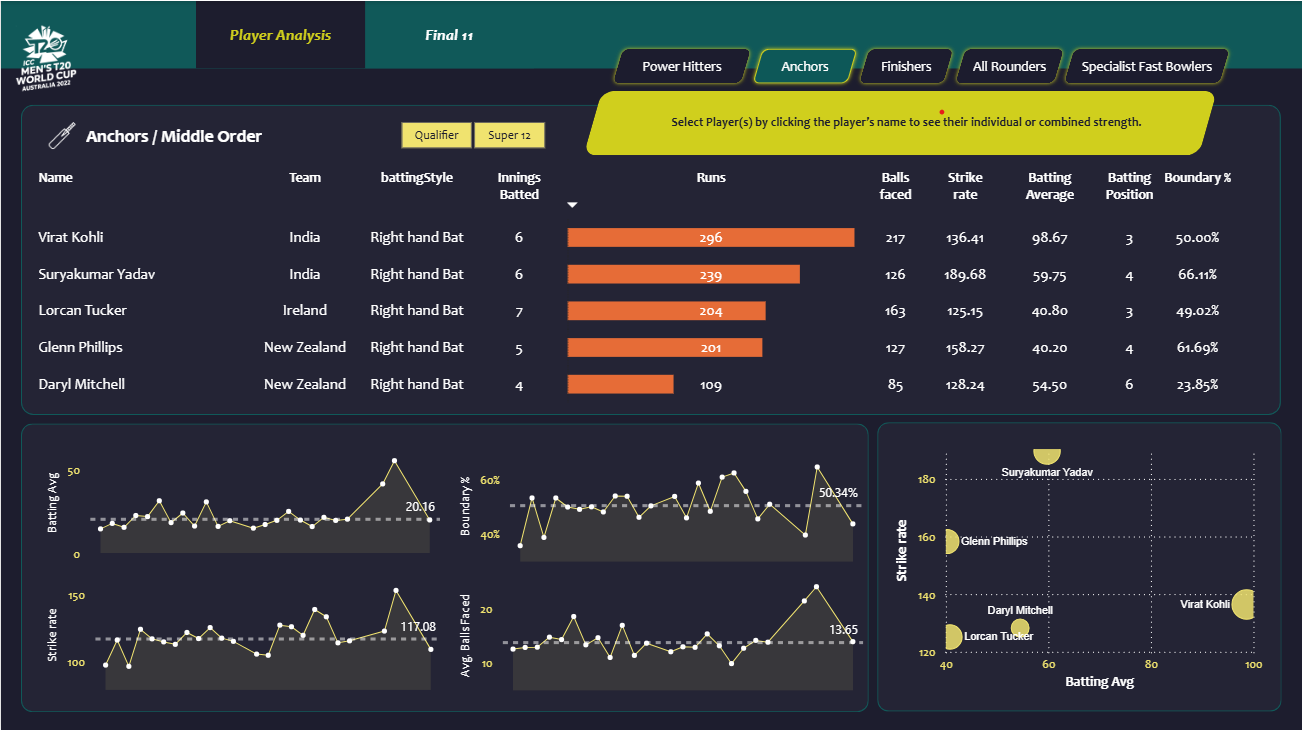

What the dashboard file says about the page in this screenshot:
{"tool":"powerbi","page":{"name":"New Anchors / Middle Order","canvas":[1280,720],"ordinal":1},"visuals":[{"type":"shape","box":[0,66,1280,654],"z":0},{"type":"card","fields":{"Values":["Key_Measures.Strike rate"]},"box":[866.4,88.6,93,60],"z":0,"group":"g2"},{"type":"group","id":"g1","title":"Group 2","box":[83.8,116.2,260,31.2],"z":0,"group":"g3"},{"type":"shape","box":[83.8,116.2,260,31.2],"z":0,"group":"g1"},{"type":"card","fields":{"Values":["Key_Measures.Bat Avg"]},"box":[767.4,88.6,92,60],"z":1000,"group":"g2"},{"type":"image","box":[38,114,44,36],"z":1000,"group":"g3"},{"type":"shape","box":[20,414.4,832.2,283.3],"z":1000},{"type":"actionButton","box":[734,42.6,111,42],"z":2000},{"type":"card","fields":{"Values":["Key_Measures.Avergate Balls Faced"]},"box":[1063,90.3,110,56.7],"z":2000,"group":"g2"},{"type":"actionButton","box":[596,42.6,144,42],"z":3000},{"type":"card","fields":{"Values":["Key_Measures.Boundary %"]},"box":[965.4,88.6,101,60],"z":3000,"group":"g2"},{"type":"actionButton","box":[838,42.6,101,42],"z":4000},{"type":"actionButton","box":[932,42.6,115,42],"z":5000},{"type":"actionButton","box":[1039,42.6,171,42],"z":6000},{"type":"image","box":[9.7,6.9,69.4,98.5],"z":7000},{"type":"areaChart","fields":{"Category":["dim_match_summary.Match_Date.Variation.Date Hierarchy.Day"],"Y":["Key_Measures.Boundary %"]},"box":[446,430,406,126],"z":9000},{"type":"shape","box":[860,414,397,284],"z":10000},{"type":"areaChart","fields":{"Category":["dim_match_summary.Match_Date.Variation.Date Hierarchy.Day"],"Y":["Key_Measures.Avergate Balls Faced"]},"box":[446,556,406,126],"z":11000},{"type":"areaChart","fields":{"Category":["dim_match_summary.Match_Date.Variation.Date Hierarchy.Day"],"Y":["Key_Measures.Bat Avg"]},"box":[40,428.9,395.6,126.7],"z":12000},{"type":"areaChart","fields":{"Category":["dim_match_summary.Match_Date.Variation.Date Hierarchy.Day"],"Y":["Key_Measures.Strike rate"]},"box":[40,555.6,396.7,125.6],"z":13000},{"type":"shape","box":[20,102.2,1236.7,304.4],"z":14000},{"type":"slicer","fields":{"Values":["dim_match_summary.stage"]},"box":[366.7,111.1,191.1,38.9],"z":15000},{"type":"shape","box":[572,88,622,63],"z":16000},{"type":"shape","box":[590.4,101.6,173,34],"z":17000},{"type":"group","id":"g2","title":"Combined Perfoamce Metrices","box":[767.4,88.6,405.6,60],"z":18000},{"type":"group","id":"g3","title":"Group 1","box":[38,114,305.8,36],"z":19000},{"type":"tableEx","fields":{"Values":["dim_player.name","dim_player.team","dim_player.Batting Style","Key_Measures.Total Matches","Key_Measures.Total Runs","Key_Measures.total balls faced","Key_Measures.Strike rate","Key_Measures.Bat Avg","Key_Measures.Batting Position","Key_Measures.Boundary %"]},"box":[26,151,1231,255],"z":20000},{"type":"scatterChart","fields":{"Y":["Key_Measures.Strike rate"],"Category":["dim_player.name"],"X":["Key_Measures.Bat Avg"],"Size":["Key_Measures.Total Runs"]},"box":[874,427,370,254],"z":21000},{"type":"actionButton","title":"Button Player Ana selected","box":[357,0,166,66],"z":22000},{"type":"actionButton","title":"Button Player Ana selected","box":[191,0,166,66],"z":23000},{"type":"shape","box":[608.6,100.9,560.6,36.3],"z":23501}]}

Visuals, with their boxes in screenshot pixels (x1, y1, x2, y2), scaled from the page's 1280x720 canvas onto the 1302x730 screenshot:
shape: bbox=(0, 67, 1301, 729)
card - Key_Measures.Strike rate: bbox=(881, 90, 976, 151)
"Group 2" group: bbox=(85, 118, 350, 149)
shape: bbox=(85, 118, 350, 149)
card - Key_Measures.Bat Avg: bbox=(781, 90, 874, 151)
image: bbox=(39, 116, 83, 152)
shape: bbox=(20, 420, 867, 707)
actionButton: bbox=(747, 43, 860, 86)
card - Key_Measures.Avergate Balls Faced: bbox=(1081, 92, 1193, 149)
actionButton: bbox=(606, 43, 753, 86)
card - Key_Measures.Boundary %: bbox=(982, 90, 1085, 151)
actionButton: bbox=(852, 43, 955, 86)
actionButton: bbox=(948, 43, 1065, 86)
actionButton: bbox=(1057, 43, 1231, 86)
image: bbox=(10, 7, 80, 107)
areaChart - dim_match_summary.Match_Date.Variation.Date Hierarchy.Day x Key_Measures.Boundary %: bbox=(454, 436, 867, 564)
shape: bbox=(875, 420, 1279, 708)
areaChart - dim_match_summary.Match_Date.Variation.Date Hierarchy.Day x Key_Measures.Avergate Balls Faced: bbox=(454, 564, 867, 691)
areaChart - dim_match_summary.Match_Date.Variation.Date Hierarchy.Day x Key_Measures.Bat Avg: bbox=(41, 435, 443, 563)
areaChart - dim_match_summary.Match_Date.Variation.Date Hierarchy.Day x Key_Measures.Strike rate: bbox=(41, 563, 444, 691)
shape: bbox=(20, 104, 1278, 412)
slicer - dim_match_summary.stage: bbox=(373, 113, 567, 152)
shape: bbox=(582, 89, 1215, 153)
shape: bbox=(601, 103, 777, 137)
"Combined Perfoamce Metrices" group: bbox=(781, 90, 1193, 151)
"Group 1" group: bbox=(39, 116, 350, 152)
tableEx - dim_player.name x dim_player.team: bbox=(26, 153, 1279, 412)
scatterChart - Key_Measures.Strike rate x dim_player.name: bbox=(889, 433, 1265, 690)
"Button Player Ana selected" actionButton: bbox=(363, 0, 532, 67)
"Button Player Ana selected" actionButton: bbox=(194, 0, 363, 67)
shape: bbox=(619, 102, 1189, 139)
